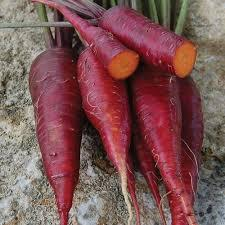Organic: (3, 5, 225, 225)
